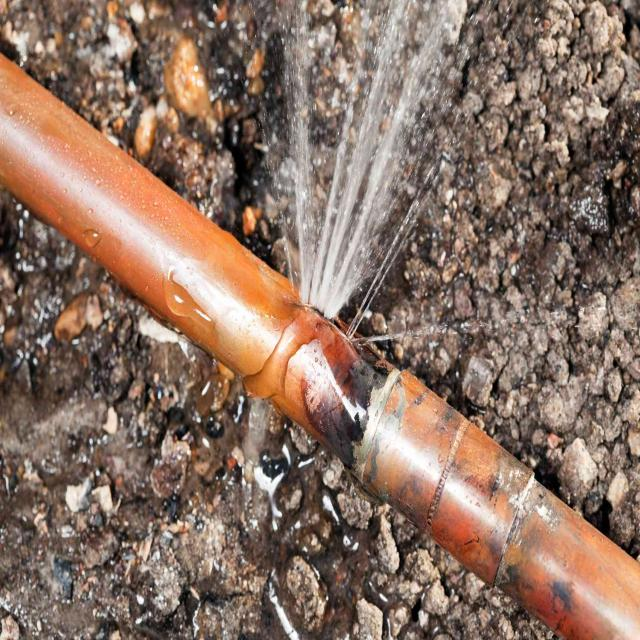leak: (282, 0, 468, 319)
